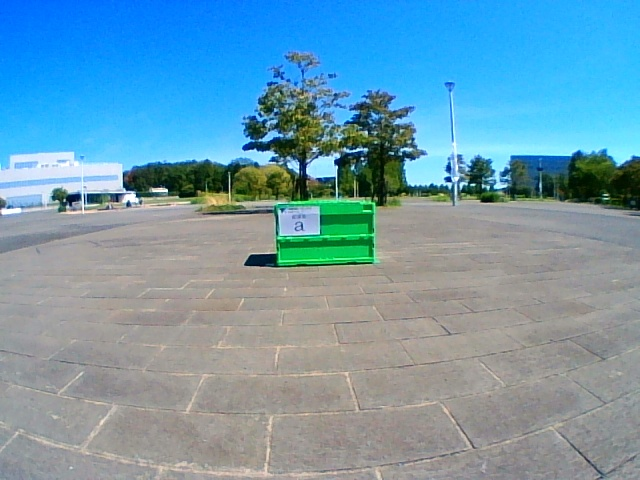green_box: (274, 200, 375, 266)
tag_a: (280, 207, 320, 234)
